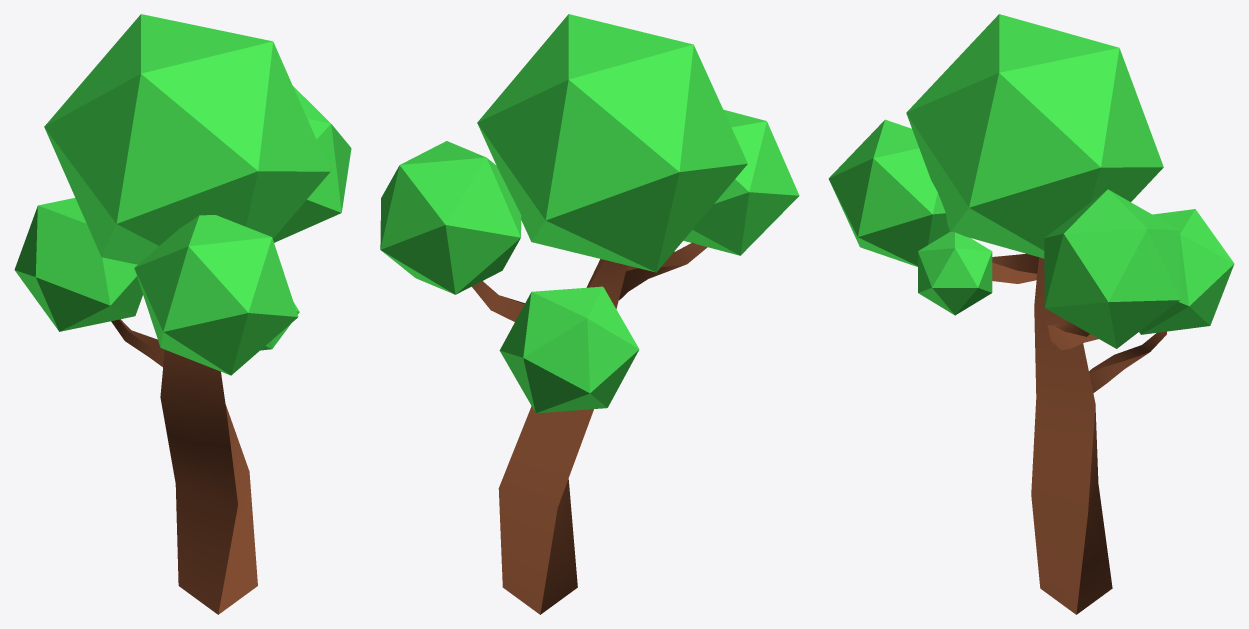
The model's file is tree1.obj.
The picture shows the model from 3 angles, left to right: view 1: azimuth 30°, elevation 25°; view 2: azimuth 150°, elevation 25°; view 3: azimuth 270°, elevation 25°; orthographic projection. The views are drawn at different scales.
Visible parts, largest first — view 1: Platonic.3, Cylinder.4, Platonic.4, Platonic.2, Platonic.1; view 2: Platonic.3, Cylinder.4, Platonic.1, Platonic.2, Platonic.4; view 3: Platonic.3, Cylinder.4, Platonic.1, Platonic.4, Platonic.2, Platonic.
Boxes of the visible parts, x1,y1,x2,y2 form: Platonic.3: (44,14,330,264); Cylinder.4: (111,319,257,614); Platonic.4: (134,215,298,375); Platonic.2: (14,198,142,331); Platonic.1: (273,86,351,242); Platonic.3: (477,14,747,272); Cylinder.4: (472,242,707,614); Platonic.1: (380,141,521,294); Platonic.2: (499,286,639,413); Platonic.4: (683,109,799,255); Platonic.3: (906,14,1163,258); Cylinder.4: (992,253,1166,614); Platonic.1: (1044,189,1180,348); Platonic.4: (828,119,949,266); Platonic.2: (1139,209,1234,334); Platonic: (918,231,992,315).
Size of the model in its own units: 4.54 by 8 by 5.56.
Materials: 2 (2 with a texture image).
